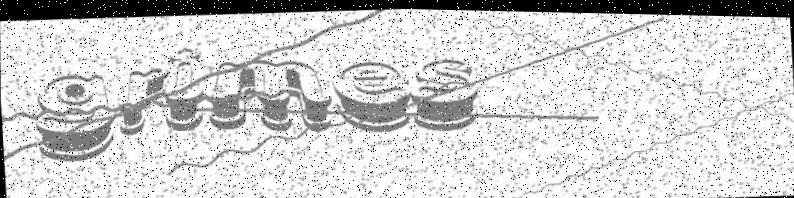e: (329, 55, 415, 133)
g: (26, 69, 117, 166)
i: (164, 42, 208, 137)
m: (202, 48, 335, 135)
r: (114, 61, 170, 137)
s: (407, 48, 482, 131)
